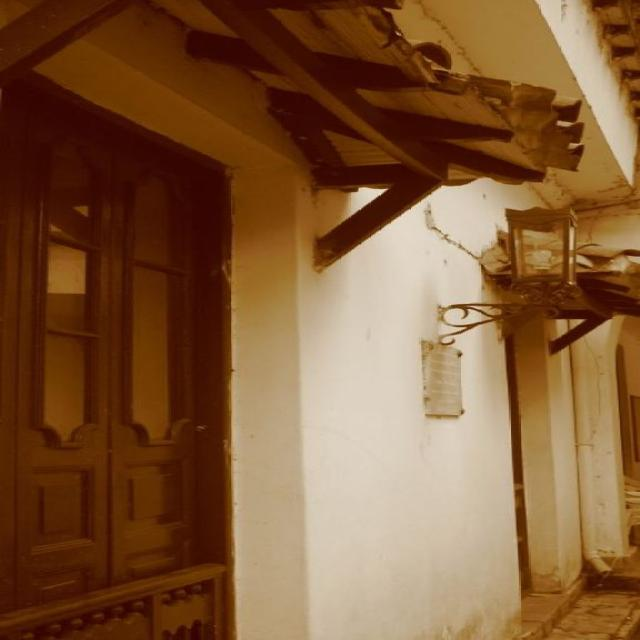door_local: (0, 67, 240, 640)
